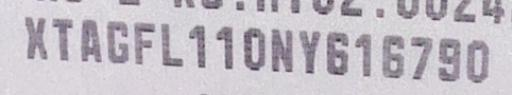letter: (158, 21, 186, 68), (434, 37, 462, 84), (464, 38, 492, 85), (23, 14, 49, 61), (324, 30, 350, 77), (408, 33, 434, 80), (78, 17, 104, 62), (104, 18, 130, 63), (241, 26, 267, 71), (380, 33, 406, 78), (50, 15, 74, 62), (297, 29, 321, 76), (132, 20, 156, 65), (270, 27, 294, 72), (186, 22, 208, 69), (213, 24, 235, 71), (352, 31, 374, 78)
